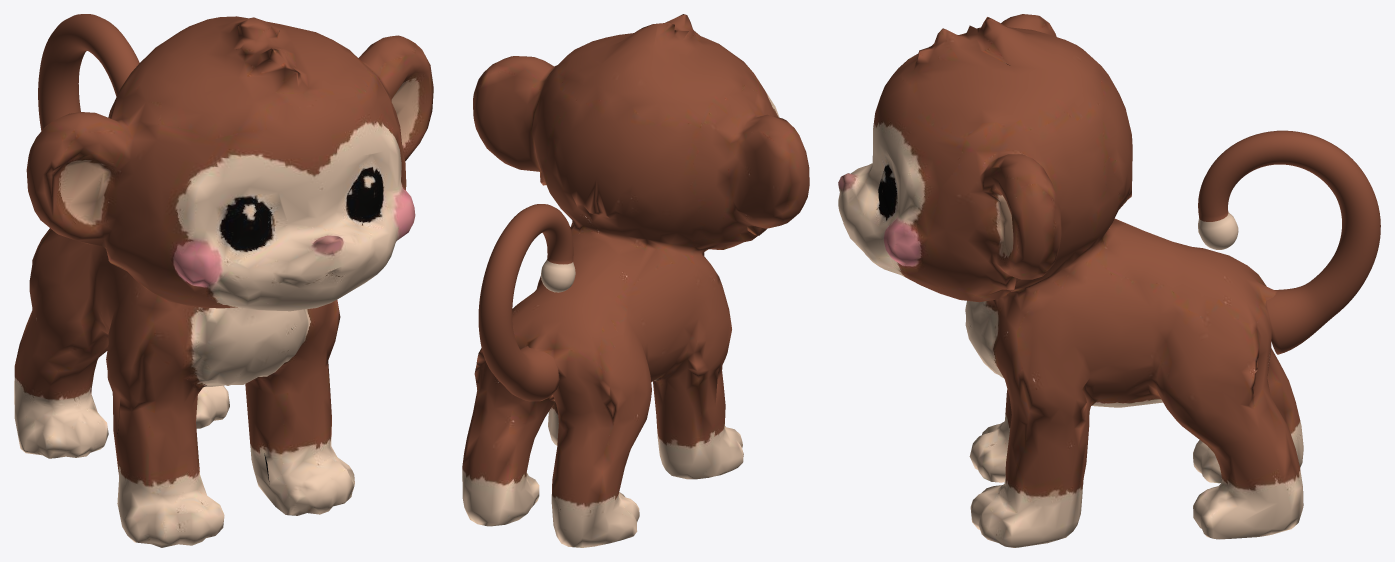
The model's file is monkey.glb.
3 views of the same model, side by side, from view 1: azimuth 30°, elevation 25°; view 2: azimuth 150°, elevation 25°; view 3: azimuth 270°, elevation 25° (orthographic). The views are drawn at different scales.
Visible parts, largest first — view 1: Mesh_0.001; view 2: Mesh_0.001; view 3: Mesh_0.001.
Part boxes in pixels (<box>): Mesh_0.001: <box>14,14,433,547</box>; Mesh_0.001: <box>462,14,809,547</box>; Mesh_0.001: <box>838,14,1380,547</box>.
Size of the model in its own units: 1.46 by 1.77 by 1.83.
Materials: 1 (1 with a texture image).
